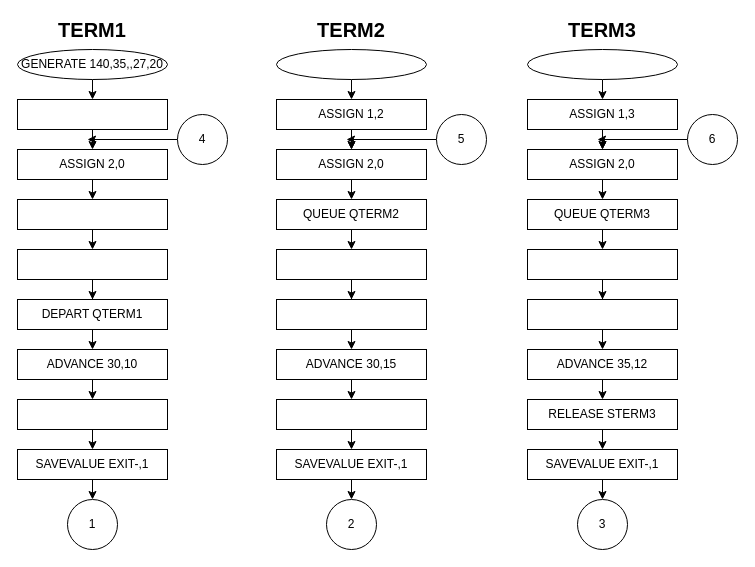
Some shapes in this 755 by 567 pixel diagram are drawn without their labels. Each missing label, with the centre of its shape:
"ASSIGN 1,1" belongs at point (92, 114).
"DEPART QTERM2" belongs at point (351, 314).
"DEPART QTERM3" belongs at point (602, 314).
"GENERATE 180,,,34,15" belongs at point (351, 64).
"GENERATE 220,,,25,10" belongs at point (602, 64).
"QUEUE QTERM1" belongs at point (92, 214).
"RELEASE STERM1" belongs at point (92, 414).
"RELEASE STERM2" belongs at point (351, 414).
"SEIZE STERM1" belongs at point (92, 264).
"SEIZE STERM2" belongs at point (351, 264).
"SEIZE STERM3" belongs at point (602, 264).
